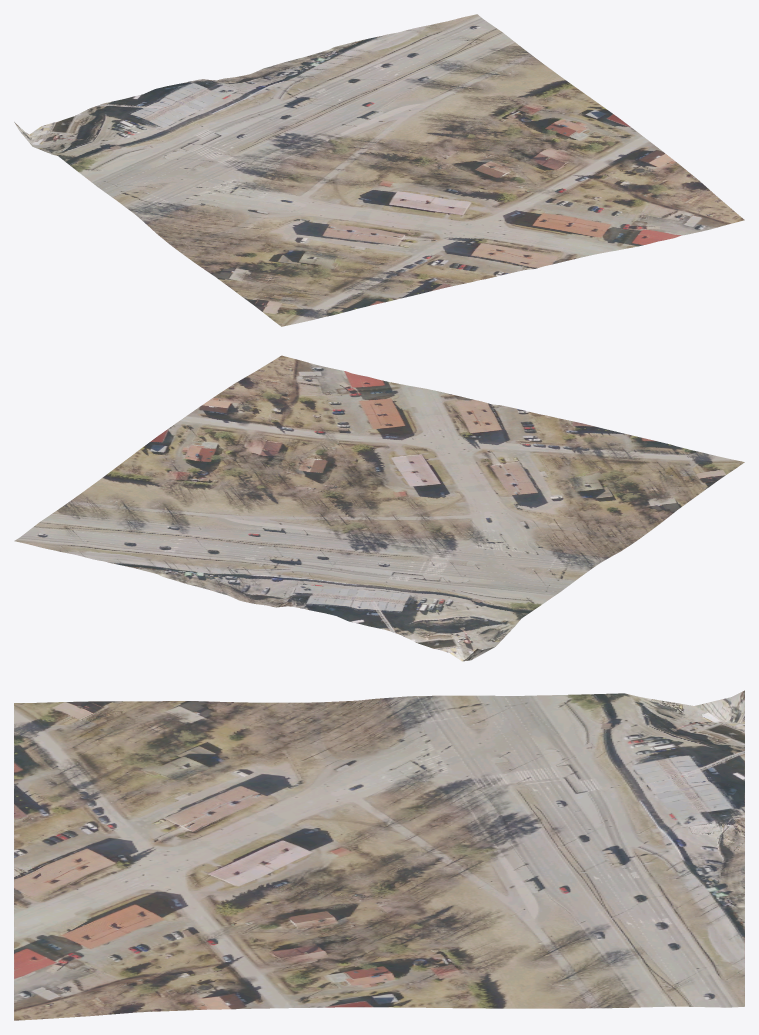
Rendered from CM_Terrain_24490049_6821432.fbx.
3 views of the same model, one above another, from view 1: azimuth 30°, elevation 25°; view 2: azimuth 150°, elevation 25°; view 3: azimuth 270°, elevation 25° (orthographic). The views are drawn at different scales.
Visible parts, largest first — view 1: CM_Terrain_24490049_6821432_LOD0; view 2: CM_Terrain_24490049_6821432_LOD0; view 3: CM_Terrain_24490049_6821432_LOD0.
Boxes of the visible parts, left/top/right/bottom form: CM_Terrain_24490049_6821432_LOD0: left=14, top=14, right=744, bottom=326; CM_Terrain_24490049_6821432_LOD0: left=14, top=355, right=744, bottom=661; CM_Terrain_24490049_6821432_LOD0: left=14, top=690, right=744, bottom=1020.
Size of what is drawn, in the model's own units: 205 by 7.73 by 205.
